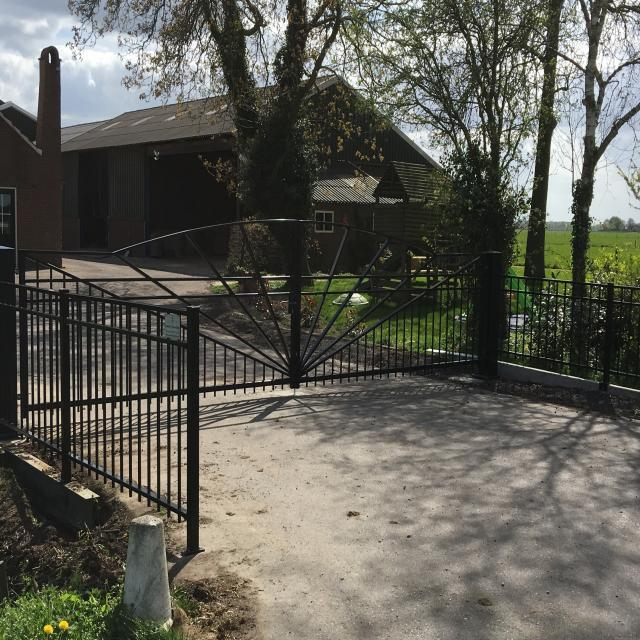fence line: (160, 210, 480, 387), (9, 278, 199, 552), (471, 265, 639, 394)
